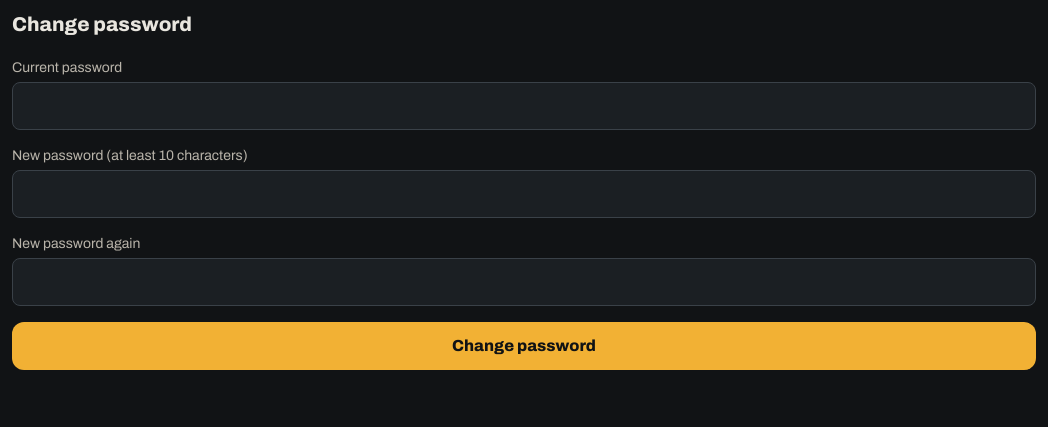
it: ChangePassword › checks the two match and the length before asking the server
This screenshot has width=1048, height=427.
Type "old-password" into the password field labelled "Current password" at (524,106), box x1=12 y1=82 x2=1036 y2=130
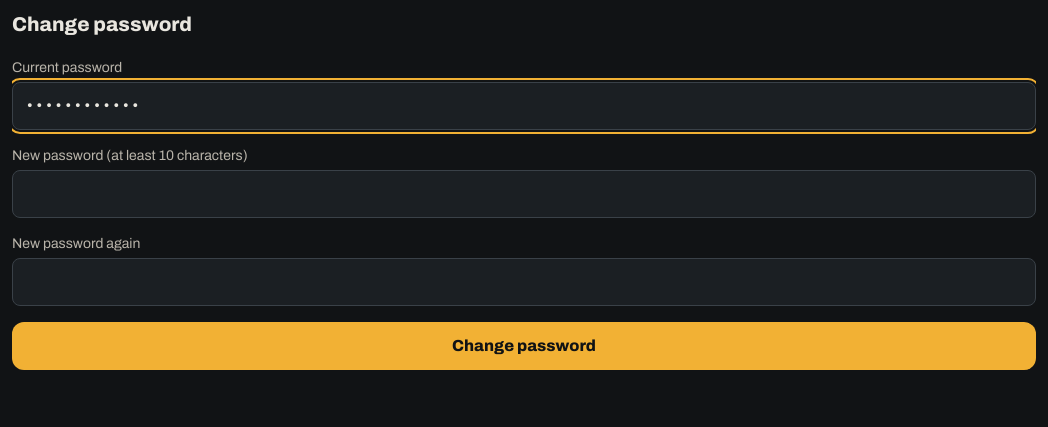
Type "short" into the password field labelled "New password (at least 10 characters)" at (524,194), box x1=12 y1=170 x2=1036 y2=218
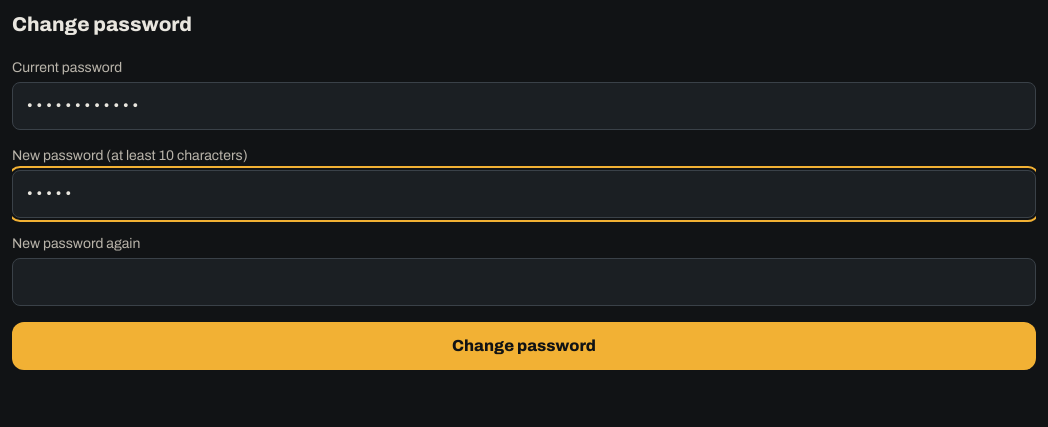
Type "shorter" into the password field labelled "New password again" at (524,282), box x1=12 y1=258 x2=1036 y2=306
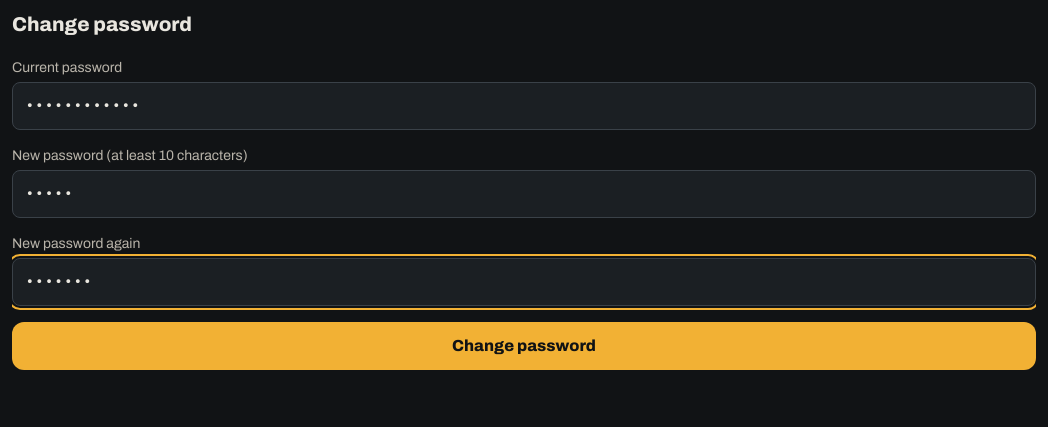
Click the button "Change password" at (524,346), box x1=12 y1=322 x2=1036 y2=370
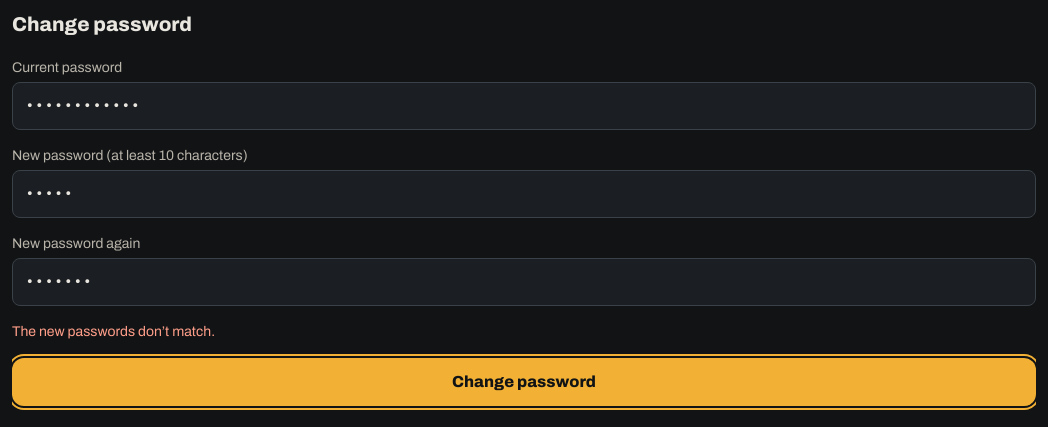
Result: the message shows "don’t match" at x1=12 y1=324 x2=215 y2=339
Type "short" into the password field labelled "New password again" at (524,282), box x1=12 y1=258 x2=1036 y2=306
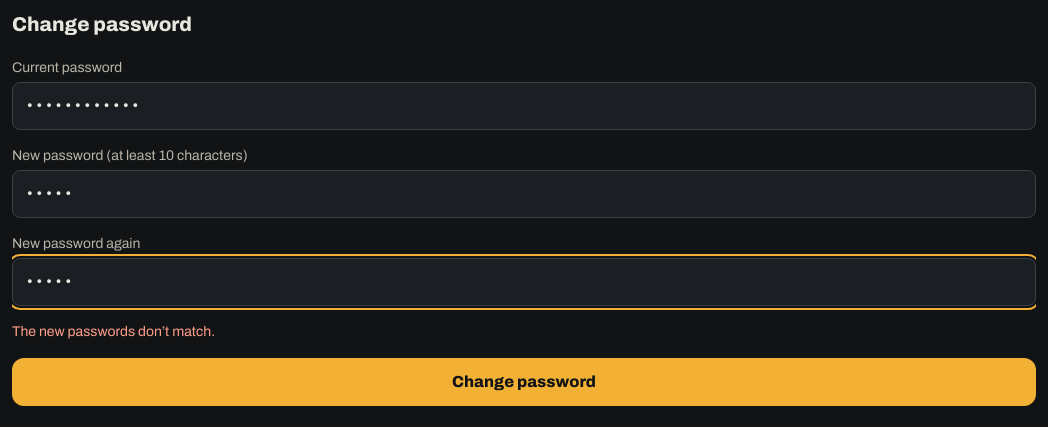
Click the button "Change password" at (524,382), box x1=12 y1=358 x2=1036 y2=406
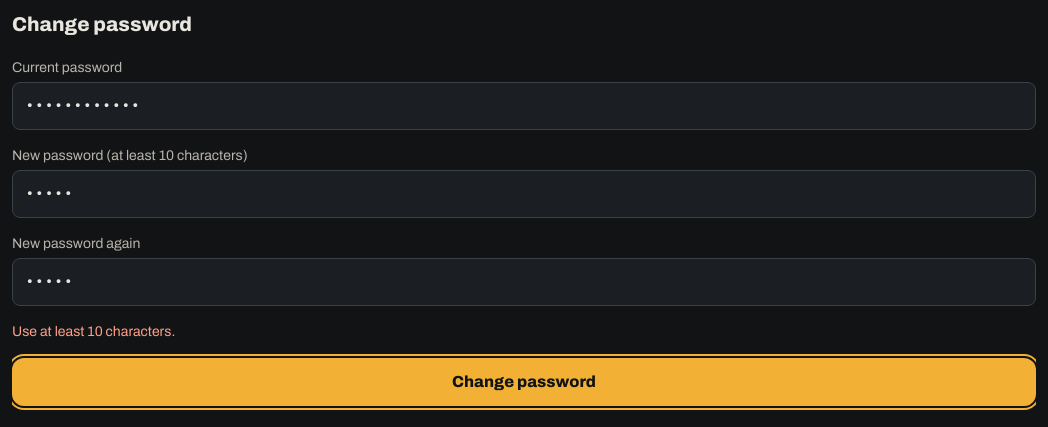
Result: the message shows "Use at least" at x1=12 y1=324 x2=175 y2=339
